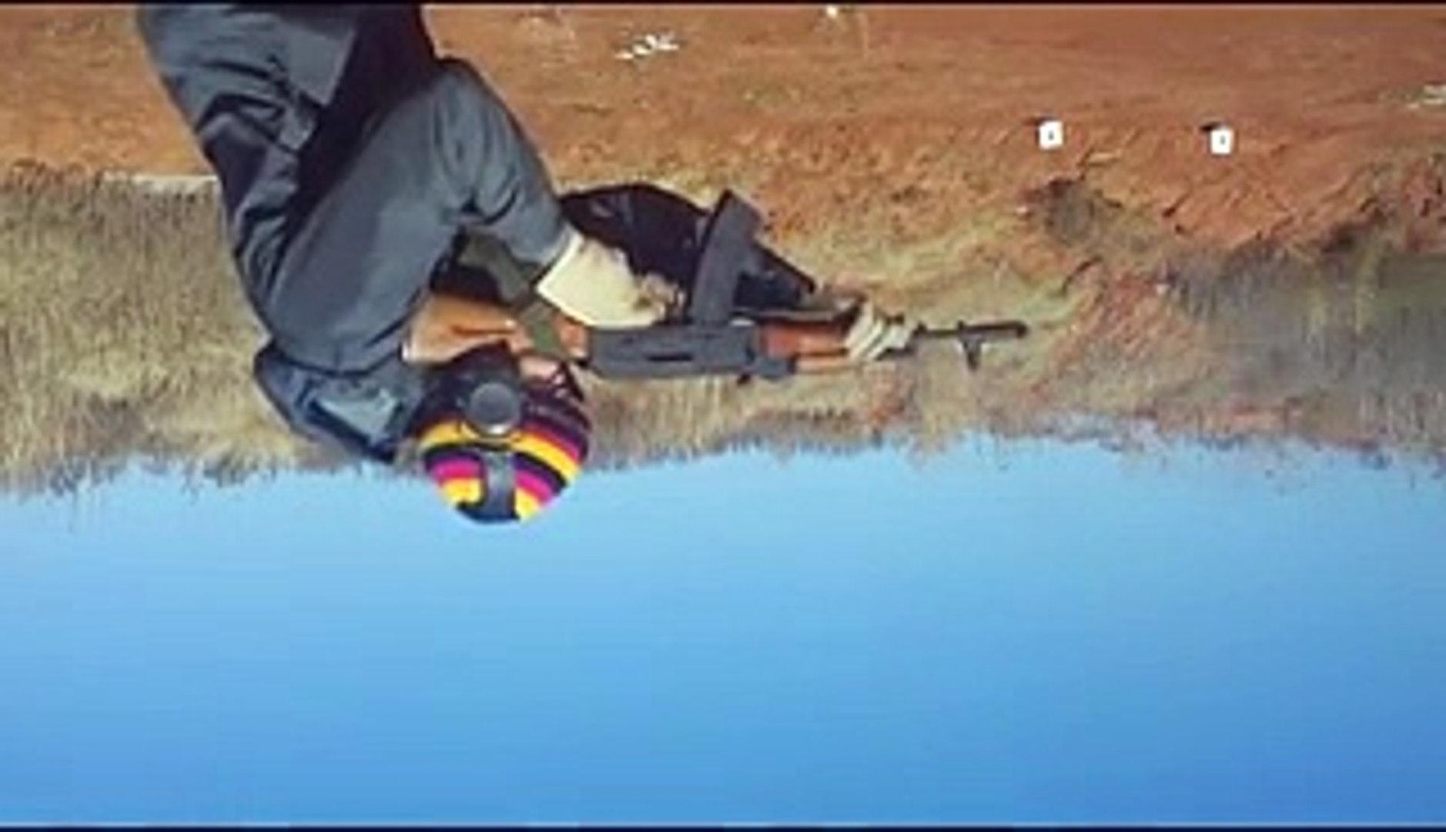larga: (395, 187, 1030, 377)
